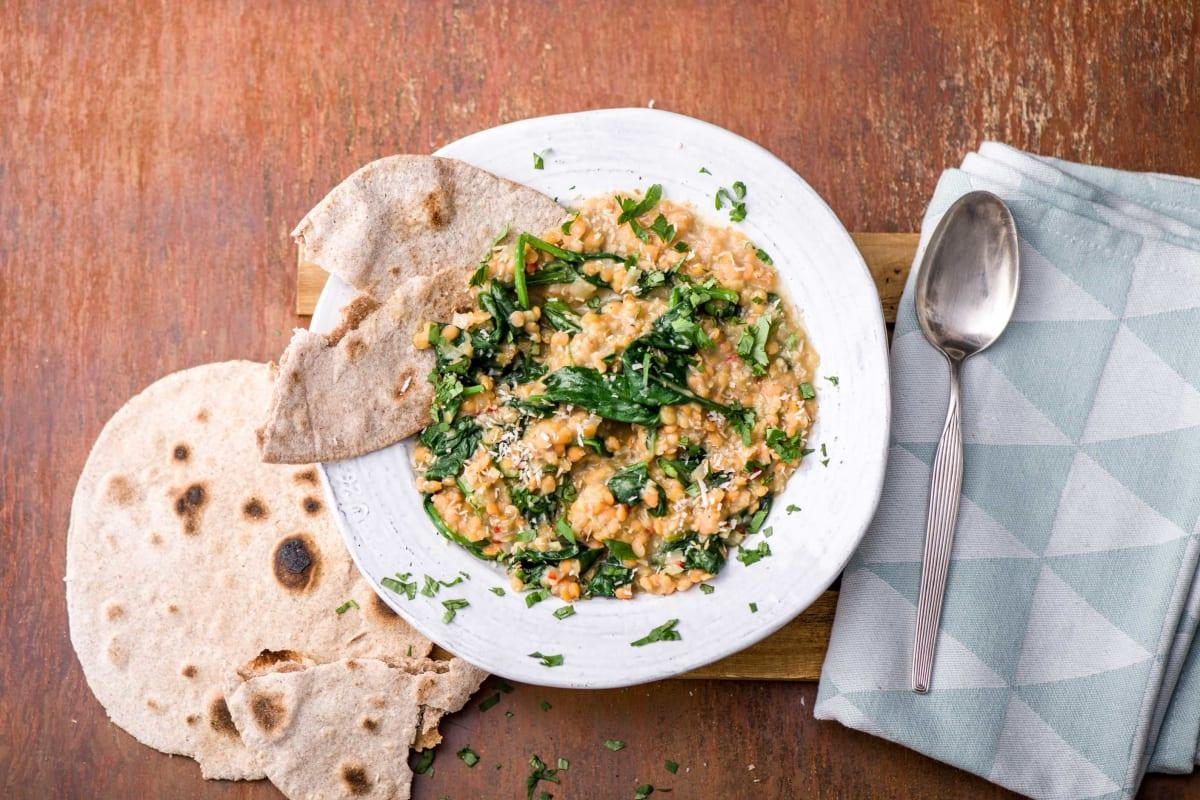chapati: (66, 361, 485, 799)
